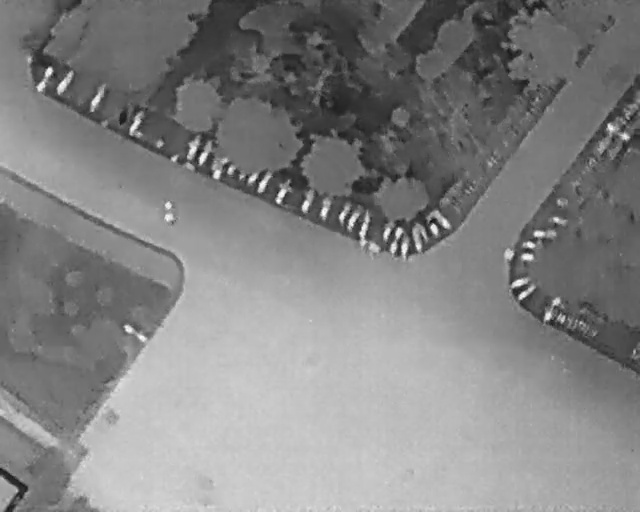Bicycle: (52, 67, 79, 100), (32, 62, 57, 97), (272, 172, 296, 207), (183, 127, 204, 165), (511, 279, 542, 304), (254, 165, 278, 197), (195, 134, 217, 167), (126, 104, 148, 136), (429, 205, 455, 232), (88, 79, 109, 112), (344, 204, 367, 233), (335, 198, 356, 225), (505, 273, 537, 290), (356, 210, 372, 243), (244, 163, 266, 187), (379, 217, 398, 244), (317, 190, 332, 222), (300, 185, 316, 214), (423, 213, 441, 238), (389, 225, 403, 257), (409, 224, 425, 252), (400, 231, 412, 262), (520, 239, 543, 250), (532, 230, 557, 238), (522, 252, 537, 262)
Person: (165, 211, 177, 227), (165, 197, 175, 213)
